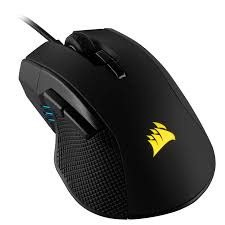mouse: (3, 22, 220, 220)
